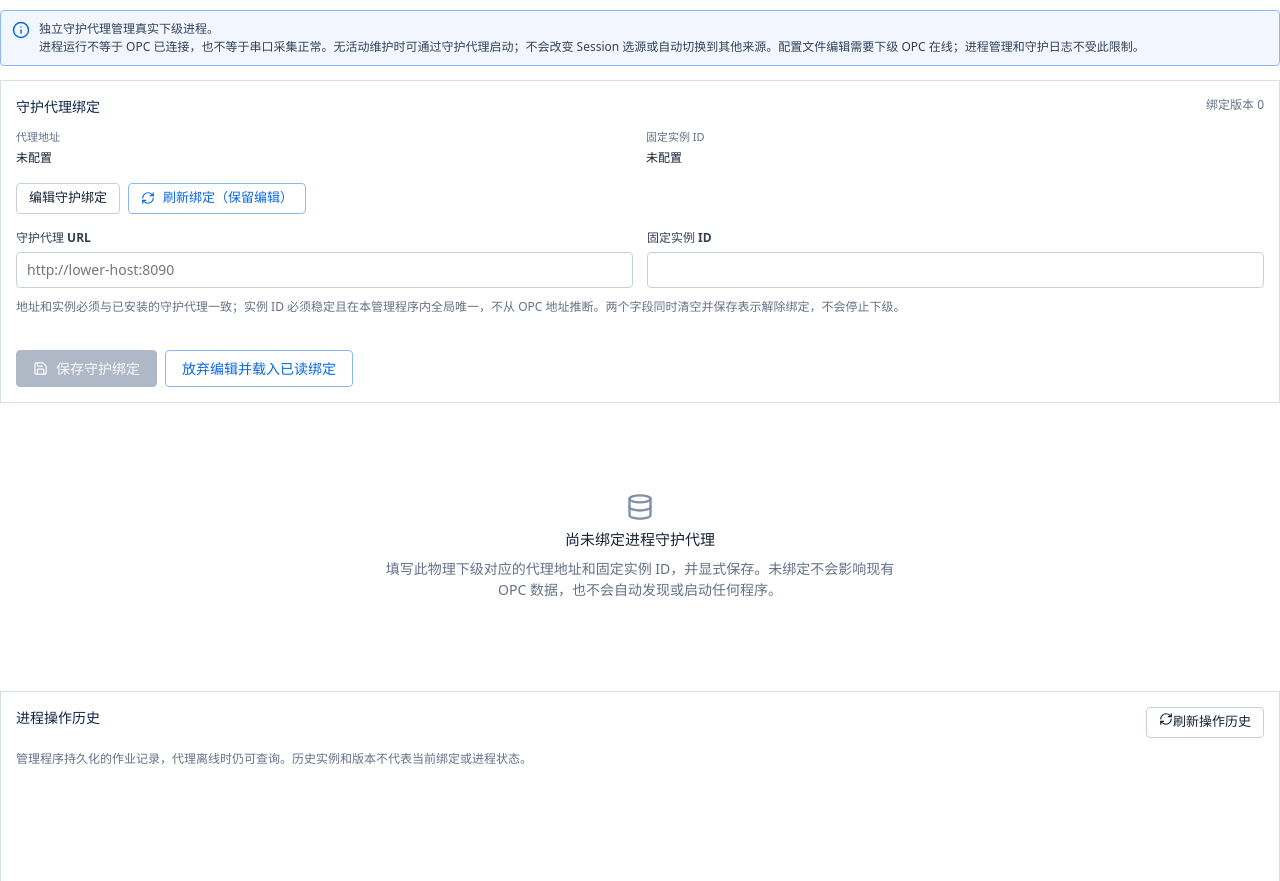
Test case: physical process management › requires explicit binding save and leaves unbound process/status/log endpoints untouched
Check: the text "尚未绑定进程守护代理" is shown, box [565,528,715,551]
Step 1. Type "http://fixture-agent:4851" into the field labelled "守护代理 URL" → [324, 270], box [16,252,633,288]
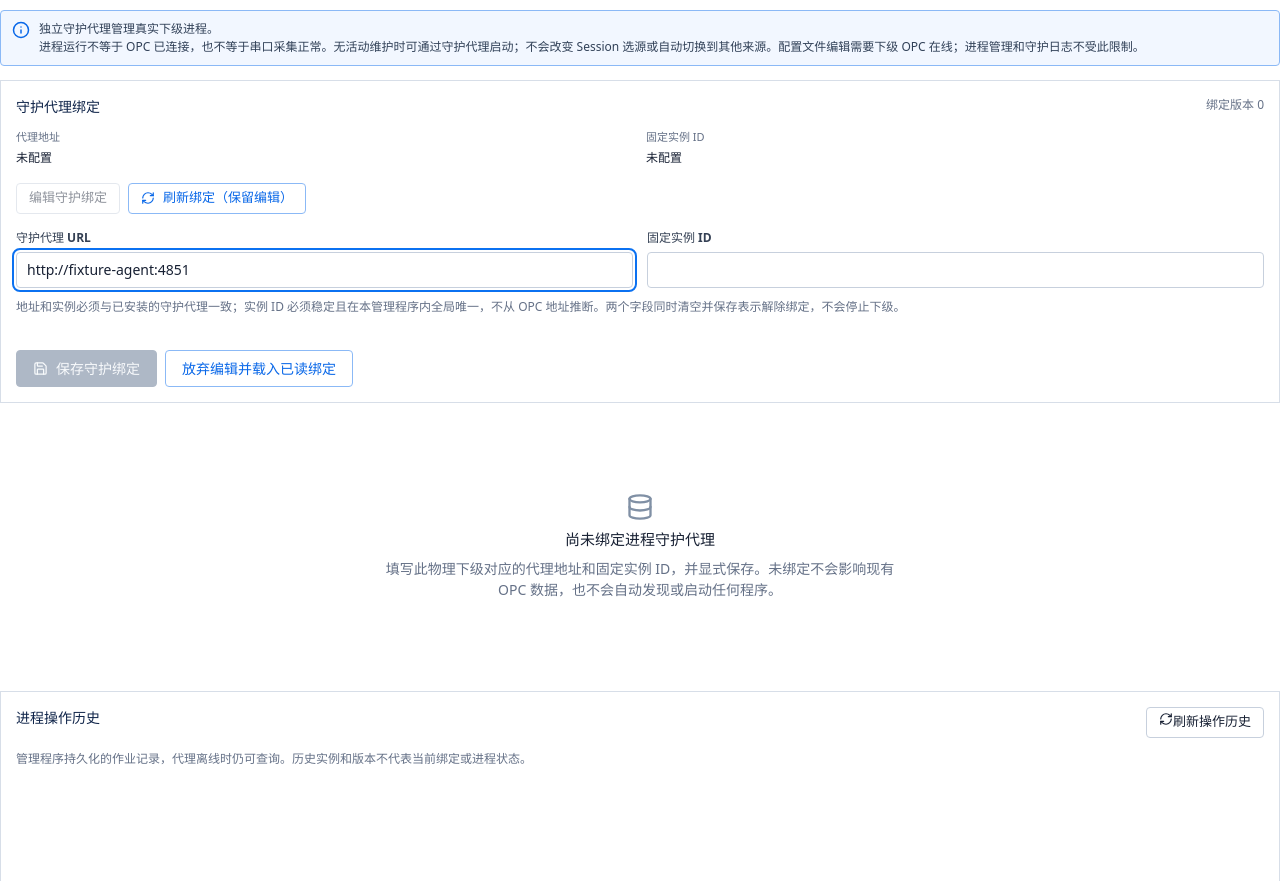
Step 2. Type "explicit-instance" into the field labelled "固定实例 ID" → [956, 270], box [647,252,1264,288]
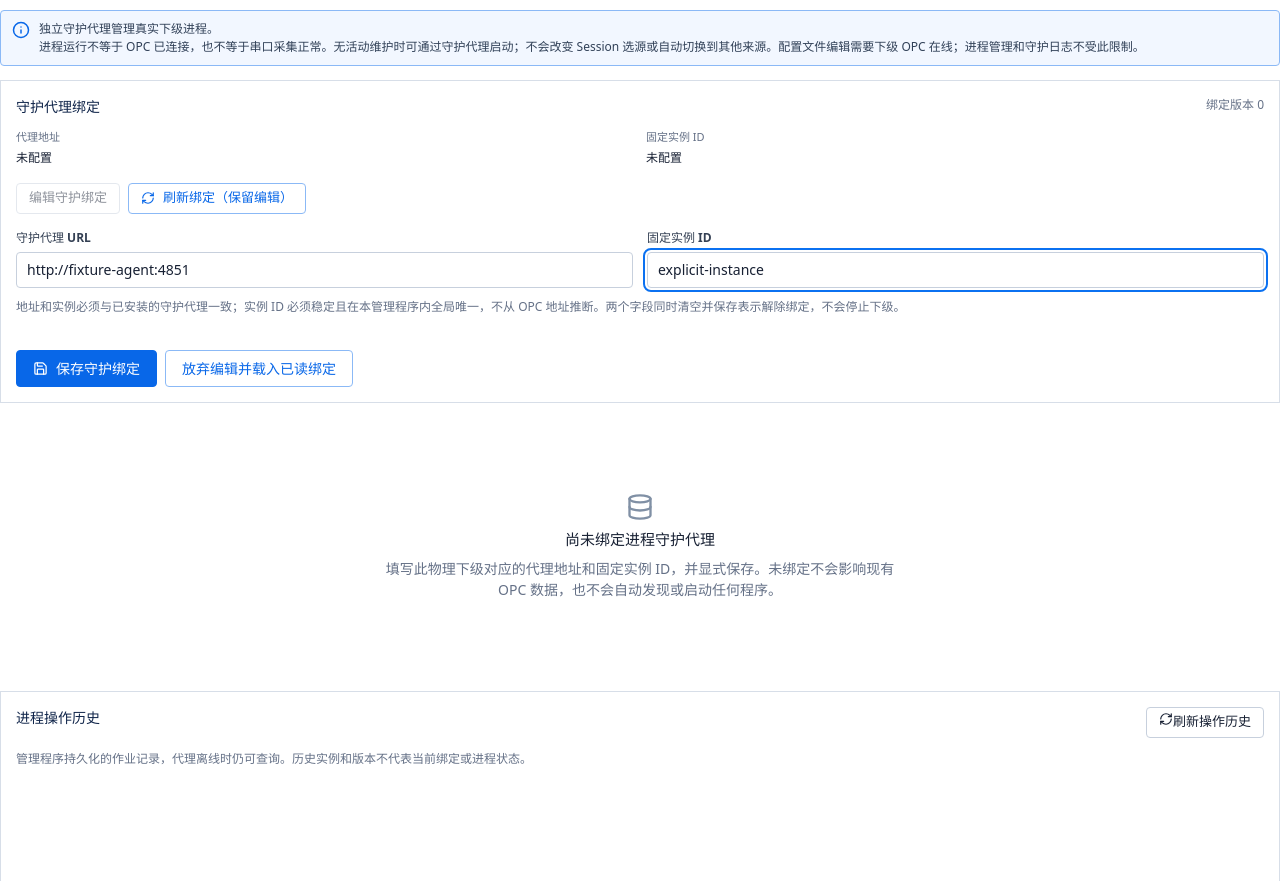
Step 3. Click the button "保存守护绑定" → [86, 368], box [16,350,157,386]
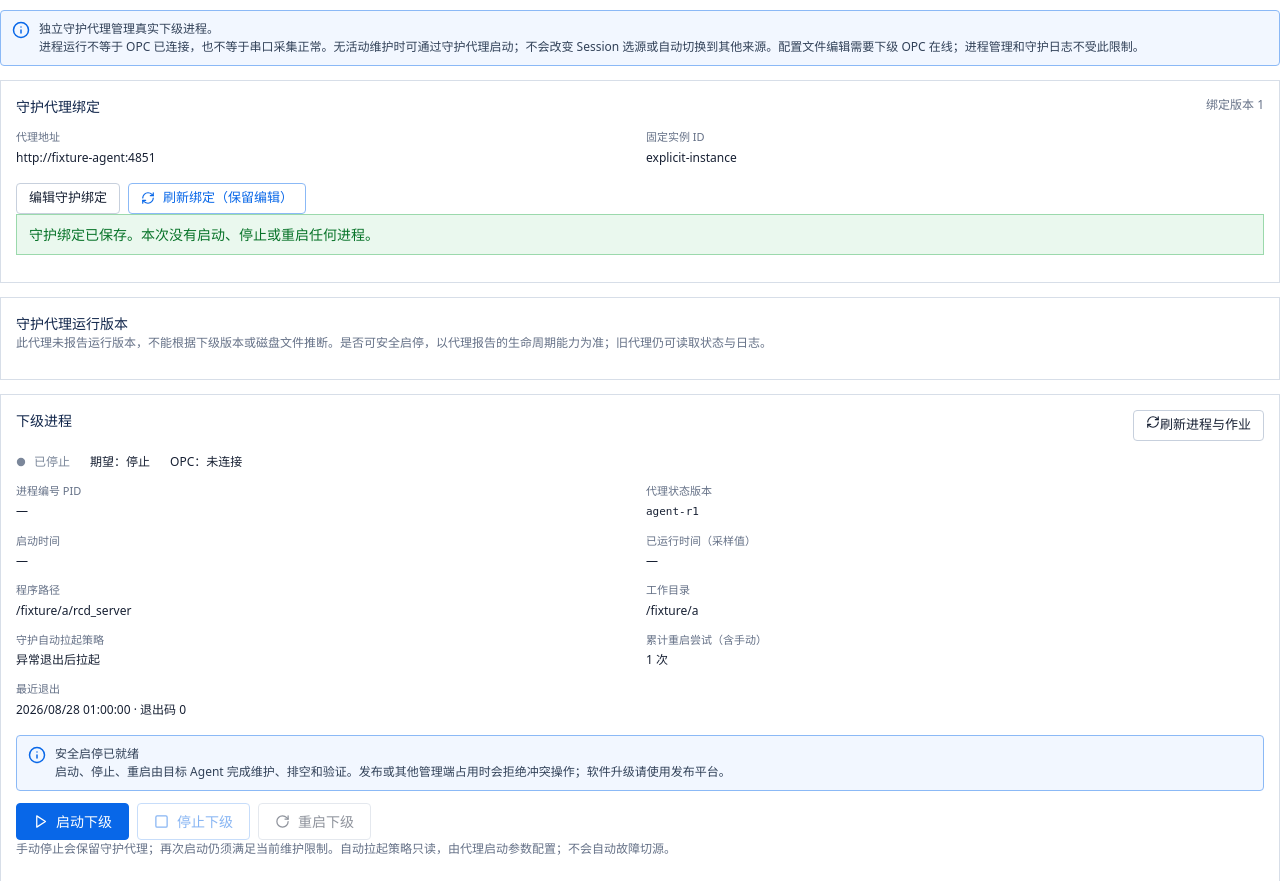
Check: the text "守护绑定已保存。本次没有启动、停止或重启任何进程。" is shown, box [16,214,1264,254]
